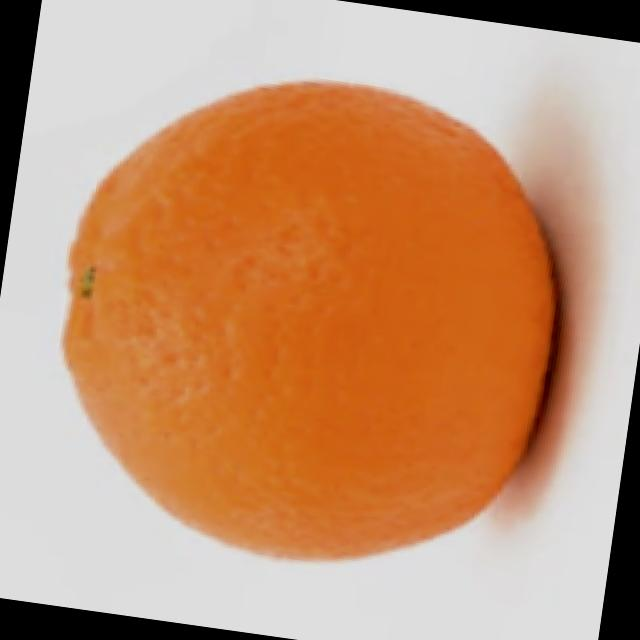orange: (15, 25, 622, 609)
